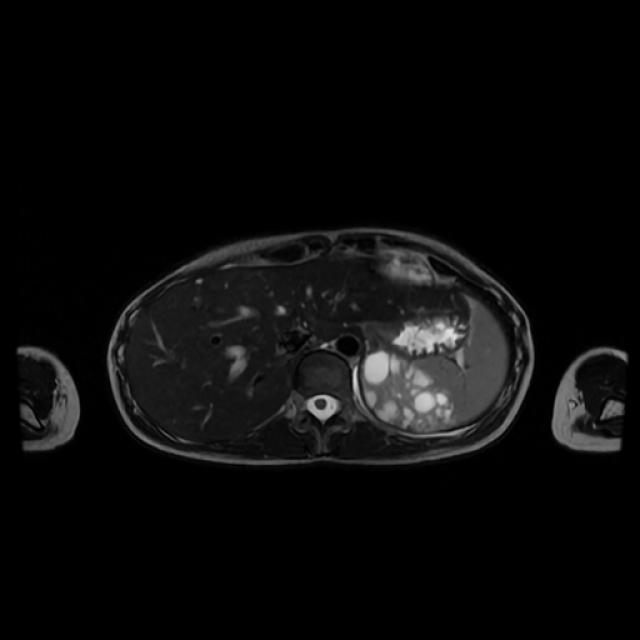sol: (364, 350, 454, 432)
